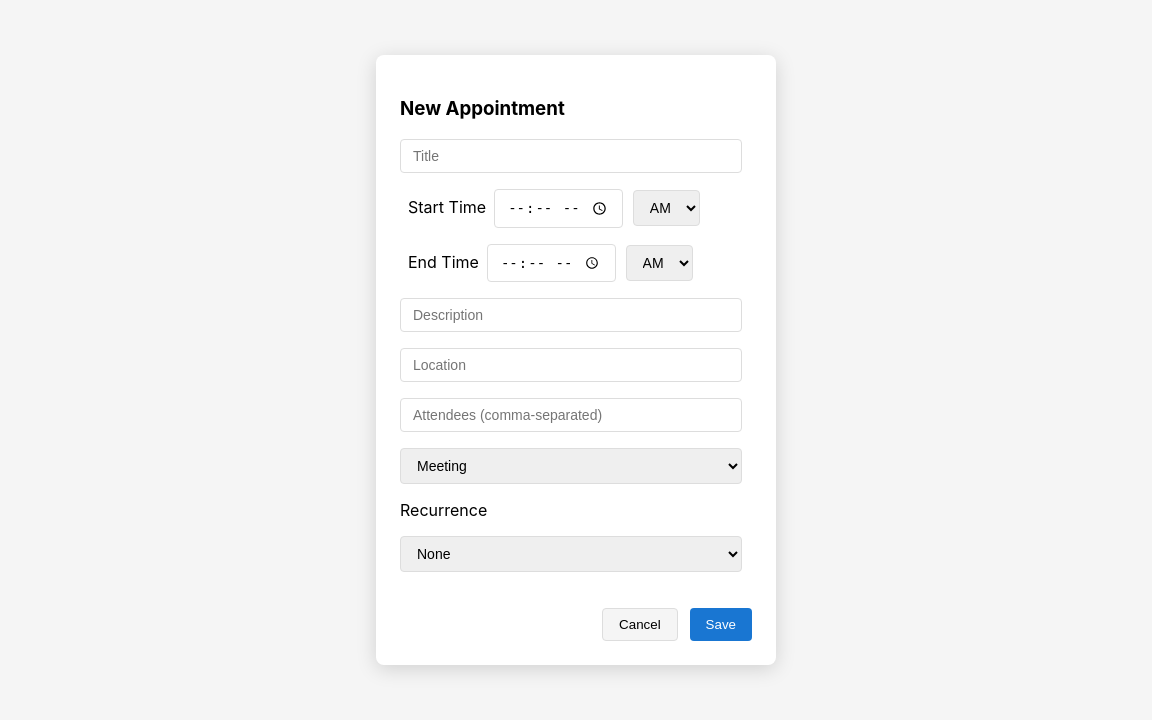
Test case: Modal Component › shows recurrence options when recurrence type is not None
The image size is (1152, 720).
Step 1. Select "Daily" in the 4th dropdown showing "None" → {"x": 571, "y": 554}, box [400,536,742,572]
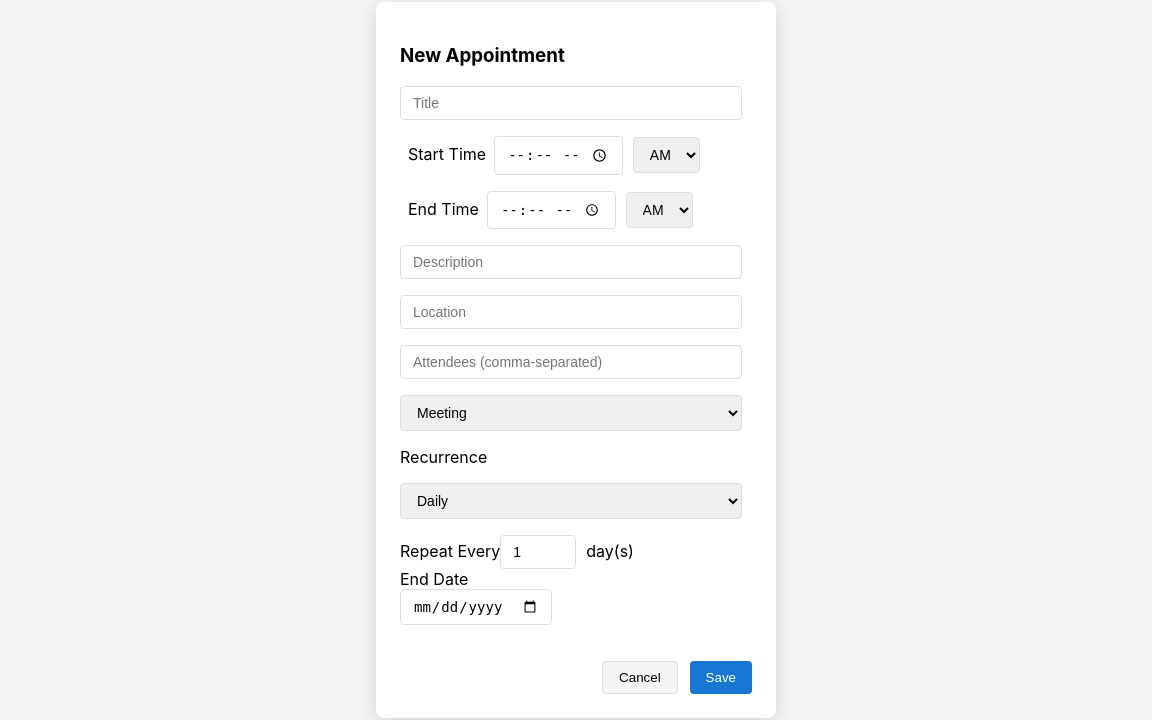
Now the text "Repeat Every" is shown, box [400,541,500,561]
Now the number field with placeholder "Interval" is shown, box [500,535,576,569]
Now the text "day(s)" is shown, box [586,541,634,561]
